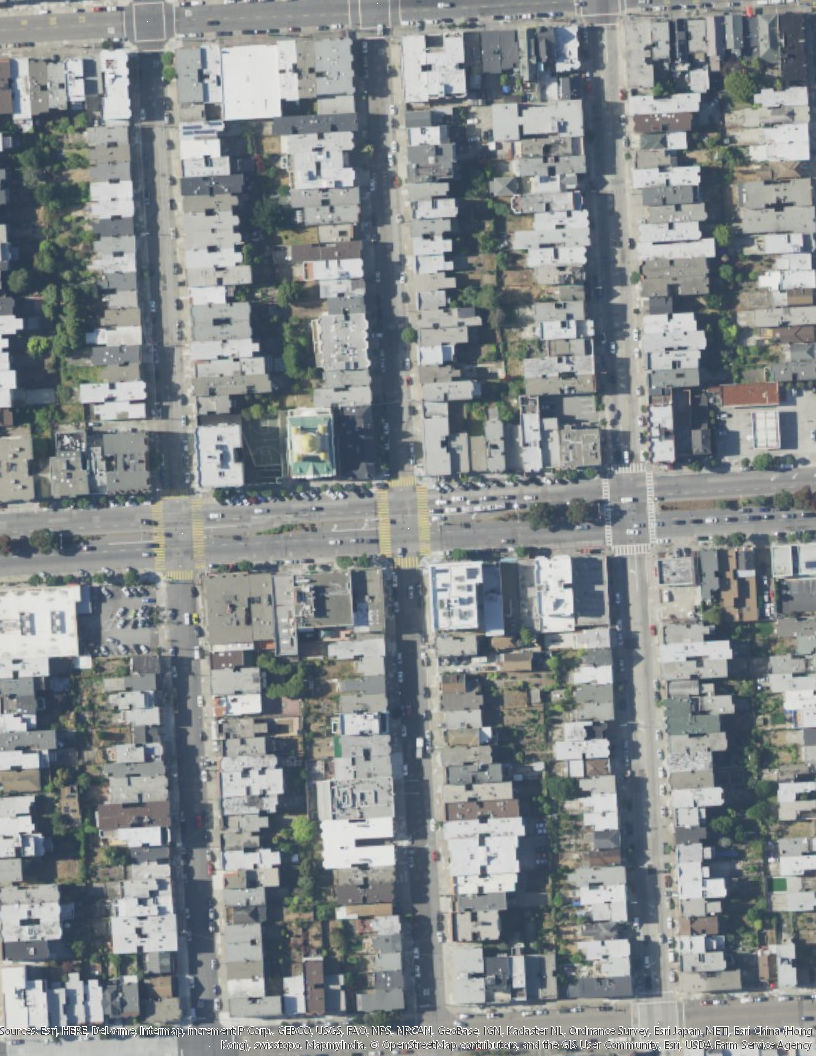zebracross: (373, 489, 394, 559), (414, 486, 432, 557), (190, 500, 207, 569), (150, 501, 167, 570), (600, 478, 614, 546), (644, 473, 656, 541), (612, 542, 650, 556), (161, 569, 195, 583), (160, 487, 190, 501), (611, 463, 647, 473), (393, 557, 419, 569), (388, 477, 416, 487)
